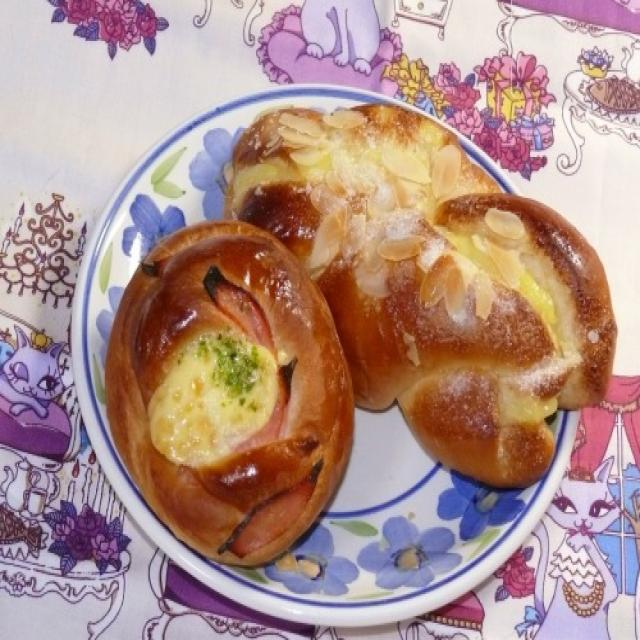三明治: (96, 77, 623, 565)
